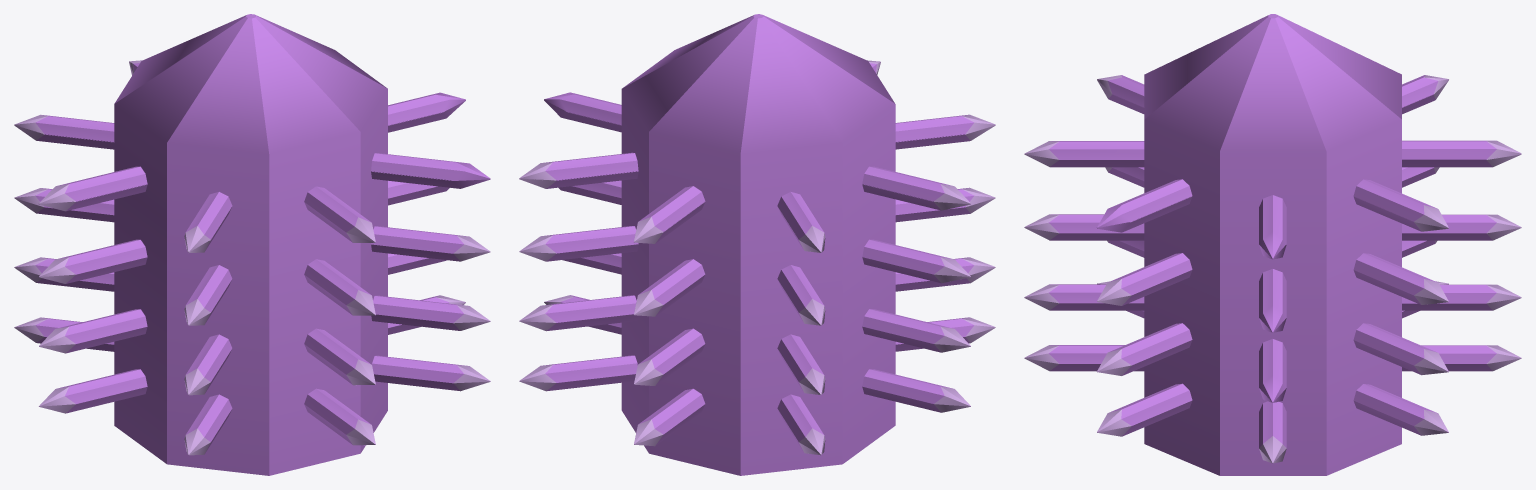
Rendered from round.fbx.
3 renders of one model, left to right at view 1: azimuth 30°, elevation 25°; view 2: azimuth 150°, elevation 25°; view 3: azimuth 270°, elevation 25°, orthographic.
Parts seen in each view (by area): view 1: polySurface70; view 2: polySurface70; view 3: polySurface70.
Part boxes in pixels (x1,y1,x2,y2): polySurface70: (14,14,490,475); polySurface70: (519,14,995,475); polySurface70: (1024,14,1521,475).
Size of the model in its own units: 35.78 by 32.2 by 35.78.
